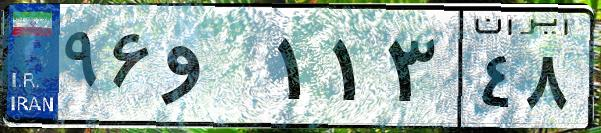1: (270, 28, 330, 110), (330, 28, 385, 110)
3: (385, 28, 445, 110)
4: (475, 38, 525, 113)
6: (110, 28, 158, 98)
8: (525, 38, 570, 115)
9: (57, 26, 110, 100)
و: (158, 20, 270, 120)
